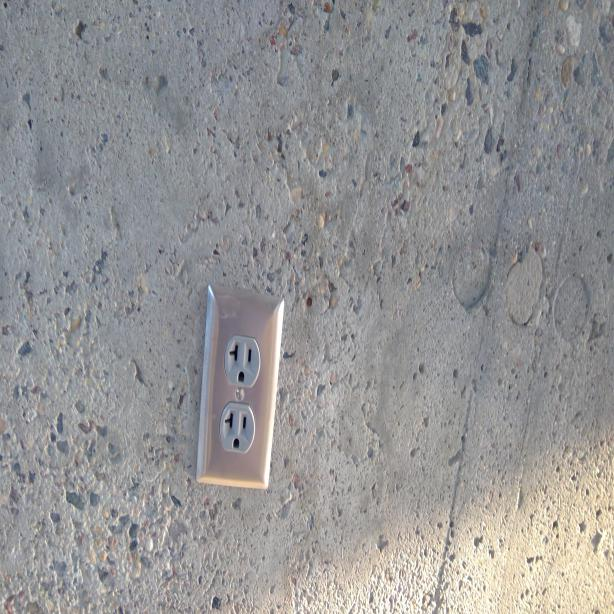typeb: (222, 334, 264, 391), (218, 401, 255, 458)
